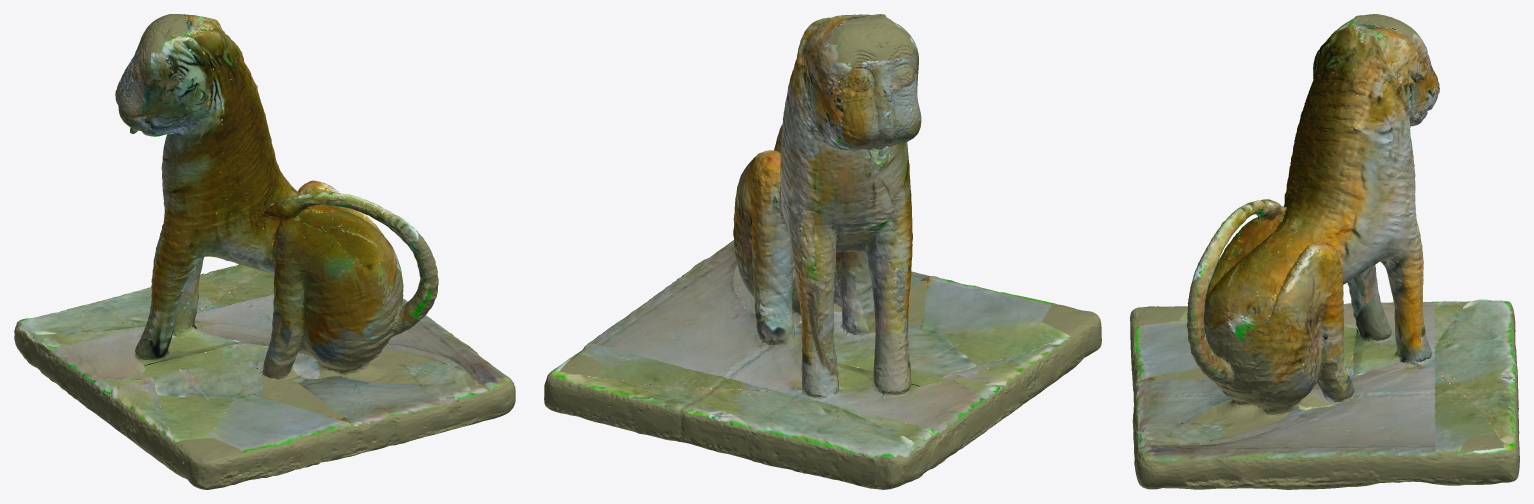
File: textured_TEXTure.glb
The picture shows the model from 3 angles, left to right: view 1: azimuth 30°, elevation 25°; view 2: azimuth 150°, elevation 25°; view 3: azimuth 270°, elevation 25°; orthographic projection. The views are drawn at different scales.
Visible parts, largest first — view 1: Node; view 2: Node; view 3: Node.
Boxes of the visible parts, x1,y1,x2,y2 form: Node: [14, 14, 515, 489]; Node: [544, 14, 1101, 489]; Node: [1130, 14, 1519, 489].
Bounding box in the file's own units: 1.9 × 2 × 1.95.
Materials: 1 (1 with a texture image).
